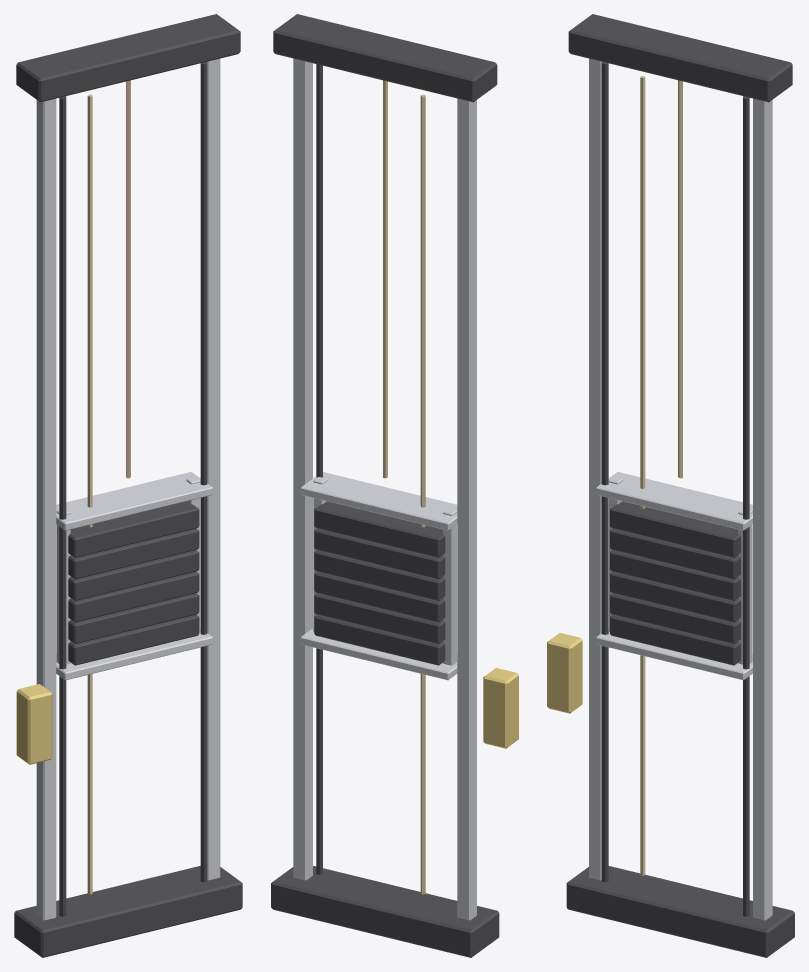
The model's file is theatre-stage-and-backstage-counterweight-frame-with-w-65d65714.glb.
3 renders of one model, left to right at view 1: azimuth 30°, elevation 25°; view 2: azimuth 150°, elevation 25°; view 3: azimuth 330°, elevation 25°, orthographic.
Visible parts, largest first — view 1: counterweight-frame-with-weights, cradle/black, cradle; view 2: counterweight-frame-with-weights, cradle/black, cradle; view 3: counterweight-frame-with-weights, cradle/black, cradle.
Part boxes in pixels (box(x1,y1,x2,y2)): counterweight-frame-with-weights: box(14, 14, 242, 957); cradle/black: box(68, 501, 199, 665); cradle: box(56, 471, 213, 680); counterweight-frame-with-weights: box(271, 14, 518, 957); cradle/black: box(314, 501, 445, 665); cradle: box(300, 472, 457, 680); counterweight-frame-with-weights: box(547, 14, 794, 957); cradle/black: box(610, 501, 740, 665); cradle: box(596, 472, 752, 680).
Bounding box in the file's own units: 1.15 × 4.4 × 0.29.
